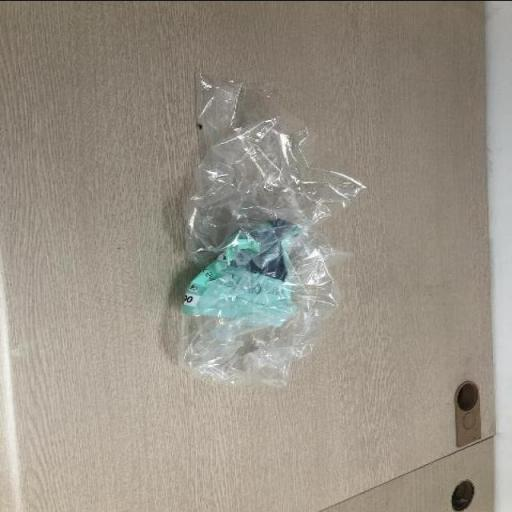plastic-bag: (175, 71, 370, 390)
